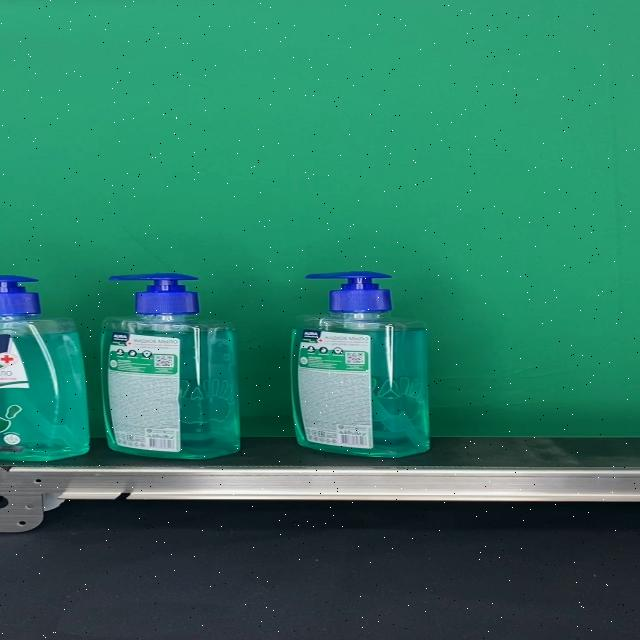Bottle: (100, 272, 241, 459), (291, 272, 430, 458)
Cap: (108, 272, 200, 315), (304, 271, 393, 313)
